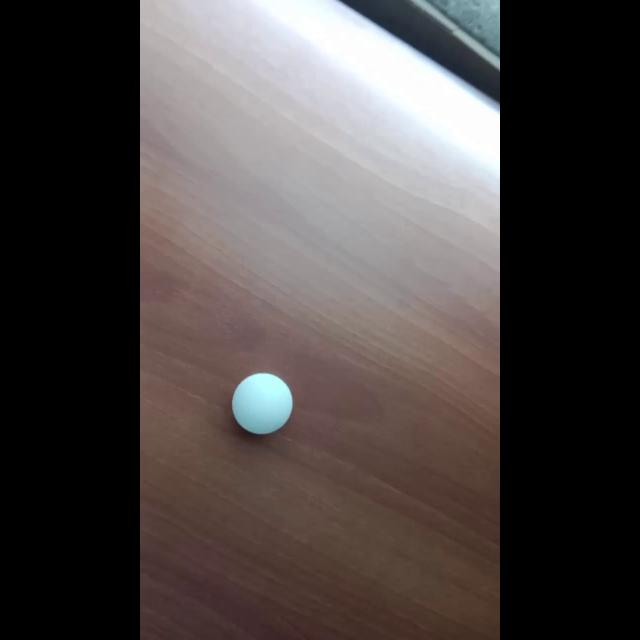white ball: (231, 372, 293, 436)
